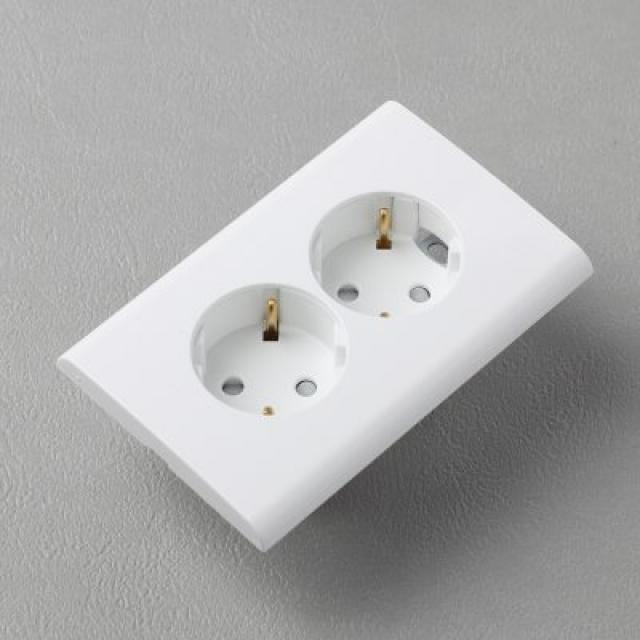typeb: (40, 94, 622, 553)
